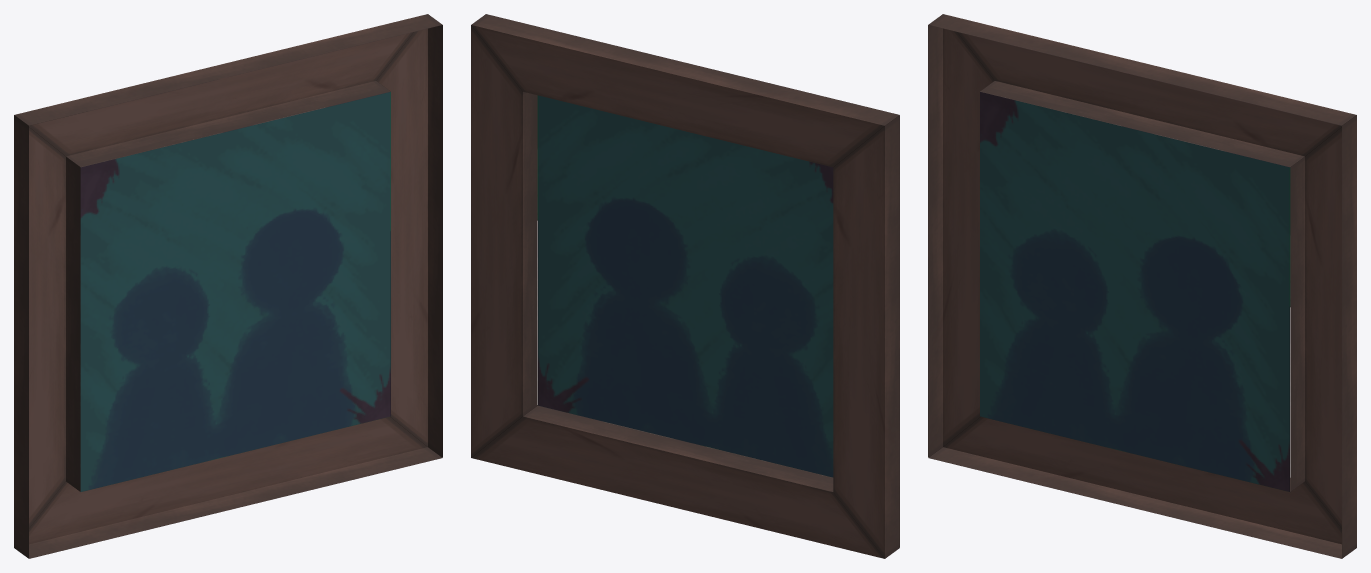
The model's file is small_painting.fbx.
3 views of the same model, side by side, from view 1: azimuth 30°, elevation 25°; view 2: azimuth 150°, elevation 25°; view 3: azimuth 330°, elevation 25° (orthographic).
Parts seen in each view (by area): view 1: small_painting; view 2: small_painting; view 3: small_painting.
Boxes of the visible parts, <box> form: small_painting: <box>14,14,442,558</box>; small_painting: <box>471,14,899,558</box>; small_painting: <box>928,14,1356,558</box>.
Bounding box in the file's own units: 1.6 × 0.1 × 1.6.
